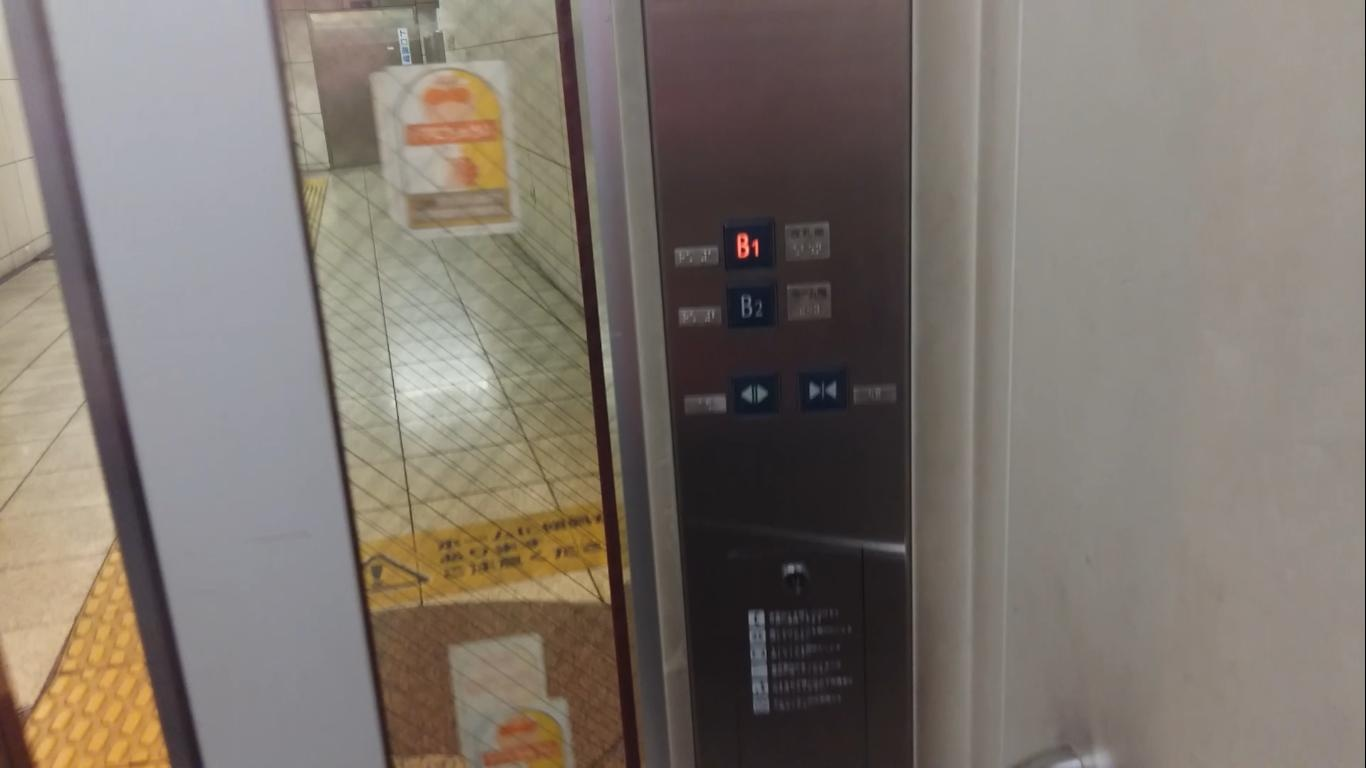B1: (719, 216, 780, 271)
B2: (720, 281, 779, 329)
close: (791, 365, 851, 414)
keyhole: (772, 561, 818, 593)
open: (727, 371, 784, 417)
